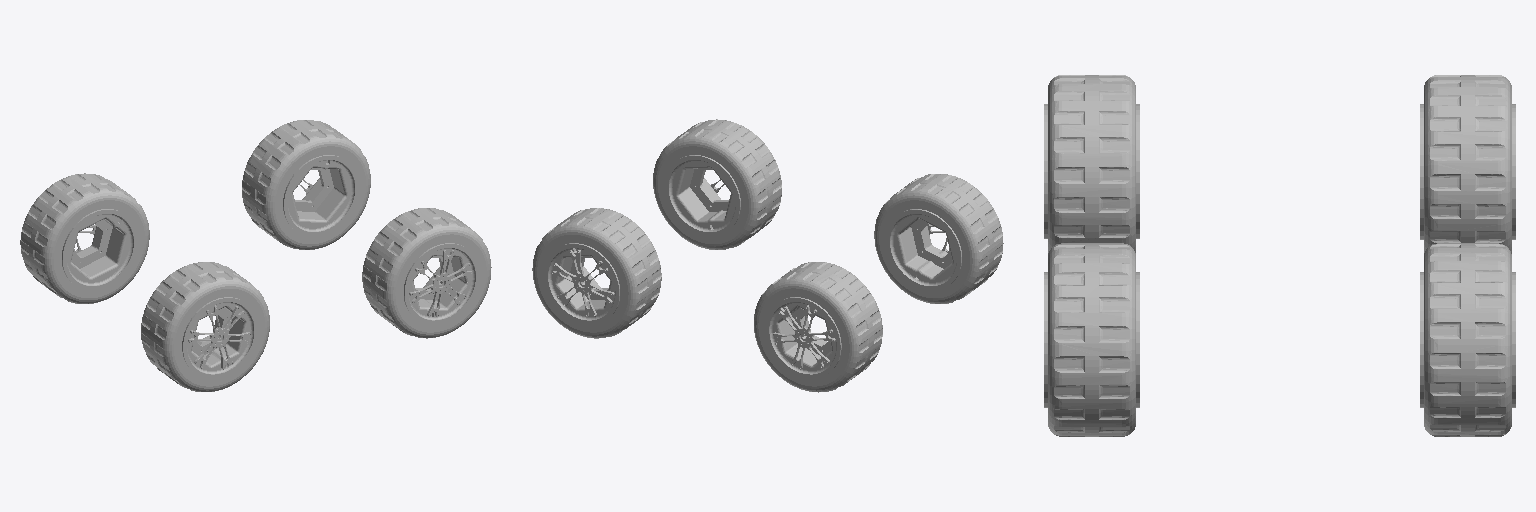
URDF robot description (rover):
<?xml version="1.0" encoding="utf-8"?>
<!-- This URDF was automatically created by SolidWorks to URDF Exporter! Originally created by
    Stephen Brawner (brawner@gmail.com) 
    Commit Version: 1.6.0-4-g7f85cfe  Build Version: 1.6.7995.38578
    For more information, please see http://wiki.ros.org/sw_urdf_exporter -->
<robot xmlns:xacro="http://www.ros.org/wiki/xacro" name="rover">
<!--<xacro:include filename="gazebo_imu.xacro" />
<xacro:include filename="gazebo_2D_lidar.xacro" /> -->

    <link name="base_link">
        <inertial>
            <origin xyz="-0.018756 0.0030187 0.29298" rpy="0 0 0" />
            <mass value="20" />
            <inertia
                ixx="0.08369"
                ixy="0.00027047"
                ixz="-7.4838E-05"
                iyy="0.096132"
                iyz="-3.3912E-05"
                izz="0.15542" />
        </inertial>
        <visual>
            <origin xyz="0 0 0" rpy="0 0 0" />
            <geometry>
                <mesh
                    filename="package://chassis_controls/description/meshes/visual/base_link.STL" />
            </geometry>
            <material name="">

                <color rgba="0.75294 0.75294 0.75294 1" />
            </material>
        </visual>
        <collision>
            <origin xyz="0 0 0" rpy="0 0 0" />
            <geometry>
                <mesh
                    filename="package://chassis_controls/description/meshes/visual/base_link.STL" />
            </geometry>
        </collision>
    </link>
    <joint name="q1" type="continuous">
        <origin xyz="0.41417 0.38597 0.19864" rpy="1.5708 0 0" />
        <parent link="base_link" />
        <child link="FL_wheel" />
        <axis xyz="0 0 -1" />
        <limit
            lower="0"
            upper="0"
            effort="0"
            velocity="0" />
    </joint>
    <link name="FL_wheel">
        <inertial>
            <origin xyz="0.00039914 -0.00040979 -0.00052985" rpy="0 0 0" />
            <mass value="7.5" />
            <inertia
                ixx="0.24161"
                ixy="3.9685E-06"
                ixz="-7.2069E-09"
                iyy="0.24162"
                iyz="-2.4995E-08"
                izz="0.40243" />
        </inertial>
        <visual>
            <origin xyz="0 0 0" rpy="0 0 0" />
            <geometry>
                <mesh
                    filename="package://chassis_controls/description/meshes/visual/FL_wheel.STL" />
            </geometry>
            <material name="">
                <color rgba="0.75294 0.75294 0.75294 1" />
            </material>
        </visual>
        <collision>
            <origin xyz="0 0 0" rpy="0 0 0" />
            <geometry>
                <mesh filename="package://chassis_controls/description/meshes/visual/FL_wheel.STL" />
            </geometry>
        </collision>
    </link>
    <joint name="q2" type="continuous">
        <origin xyz="0.41412 -0.38743 0.19844" rpy="1.5708 0 0" />
        <parent link="base_link" />
        <child link="FR_wheel" />
        <axis xyz="0 0 -1" />
    </joint>
    <link name="FR_wheel">
        <inertial>
            <origin xyz="0.00053061 8.5616E-05 0.00052985" rpy="0 0 0" />
            <mass value="7.5" />
            <inertia
                ixx="0.24161"
                ixy="3.8671E-06"
                ixz="-6.752E-09"
                iyy="0.24162"
                iyz="-2.5122E-08"
                izz="0.40243" />

        </inertial>
        <visual>
            <origin xyz="0 0 0" rpy="0 0 0" />
            <geometry>
                <mesh filename="package://chassis_controls/description/meshes/visual/FR_wheel.STL" />
            </geometry>
            <material name="">
                <color rgba="0.75294 0.75294 0.75294 1" />
            </material>
        </visual>
        <collision>
            <origin xyz="0 0 0" rpy="0 0 0" />
            <geometry>
                <mesh filename="package://chassis_controls/description/meshes/visual/FR_wheel.STL" />
            </geometry>
        </collision>
    </link>
    <joint name="q3" type="continuous">
        <origin xyz="-0.40511 -0.38743 0.19864" rpy="1.5708 0 0" />
        <parent link="base_link" />
        <child link="RR_wheel" />
        <axis xyz="0 0 -1" />
    </joint>
    <link name="RR_wheel">
        <inertial>
            <origin xyz="-0.00038558 -0.00027142 0.00052985" rpy="0 0 0" />
            <mass value="7.5" />
            <inertia
                ixx="0.24161"
                ixy="-3.8406E-06"
                ixz="6.9605E-09"
                iyy="0.24162"
                iyz="-2.5065E-08"
                izz="0.40243" />
        </inertial>
        <visual>
            <origin xyz="0 0 0" rpy="0 0 0" />
            <geometry>
                <mesh filename="package://chassis_controls/description/meshes/visual/RR_wheel.STL" />
            </geometry>
            <material name="">
                <color rgba="0.75294 0.75294 0.75294 1" />
            </material>
        </visual>
        <collision>
            <origin xyz="0 0 0" rpy="0 0 0" />
            <geometry>
                <mesh filename="package://chassis_controls/description/meshes/visual/RR_wheel.STL" />
            </geometry>
        </collision>
    </link>
    <joint name="q4" type="continuous">
        <origin xyz="-0.40506 0.38597 0.19844" rpy="1.5708 0 0" />
        <parent link="base_link" />
        <child link="RL_wheel" />
        <axis xyz="0 0 -1" />
    </joint>
    <link name="RL_wheel">
        <inertial>
            <origin xyz="2.8197E-07 2.7432E-07 -0.00052985" rpy="0 0 0" />
            <mass value="7.5" />
            <inertia
                ixx="0.24162"
                ixy="7.576E-06"
                ixz="-1.8739E-08"
                iyy="0.24162"

                iyz="-1.8043E-08"
                izz="0.40243" />
        </inertial>
        <visual>
            <origin xyz="0 0 0" rpy="0 0 0" />
            <geometry>
                <mesh filename="package://chassis_controls/description/meshes/visual/RL_wheel.STL" />
            </geometry>
            <material name="">
                <color rgba="0.75294 0.75294 0.75294 1" />
            </material>
        </visual>
        <collision>
            <origin xyz="0 0 0" rpy="0 0 0" />
            <geometry>
                <mesh filename="package://chassis_controls/description/meshes/visual/RL_wheel.STL" />
            </geometry>
        </collision>
    </link>
</robot>

--- What the picture shows (computed from the rendered views, not written in the file) ---
The picture shows the robot from 3 angles, left to right: view 1: azimuth 30°, elevation 25°; view 2: azimuth 150°, elevation 25°; view 3: azimuth 270°, elevation 25°; orthographic projection.
Model rover with 5 links and 4 joints (4 continuous), rooted at base_link, posed all joints at 0.
Visible links, largest first — view 1: RL_wheel, RR_wheel, FL_wheel, FR_wheel; view 2: RL_wheel, RR_wheel, FL_wheel, FR_wheel; view 3: FR_wheel, FL_wheel, RL_wheel, RR_wheel.
Boxes of the visible links, box(x1,y1,x2,y2) form: RL_wheel: box(20, 173, 149, 303); RR_wheel: box(141, 262, 269, 391); FL_wheel: box(242, 120, 370, 249); FR_wheel: box(362, 208, 491, 338); RL_wheel: box(754, 262, 882, 392); RR_wheel: box(874, 174, 1003, 303); FL_wheel: box(532, 208, 661, 338); FR_wheel: box(653, 119, 781, 249); FR_wheel: box(1044, 243, 1139, 436); FL_wheel: box(1420, 243, 1515, 436); RL_wheel: box(1420, 75, 1515, 253); RR_wheel: box(1044, 75, 1139, 252).
Size in the robot's own frame: 1.22 by 0.9694 by 0.3991 metres.
4 mesh visuals loaded from 5 distinct referenced files (4 binary STL); not drawn: 1 (reference not matched to a file when rendering).
